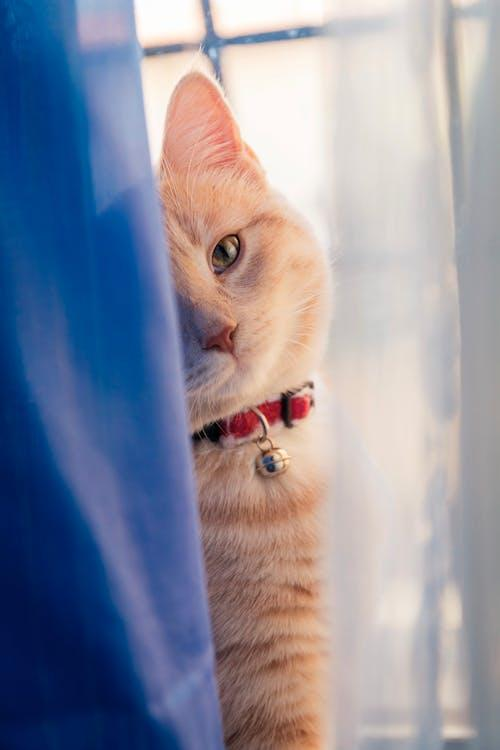kedo: (116, 59, 339, 750)
